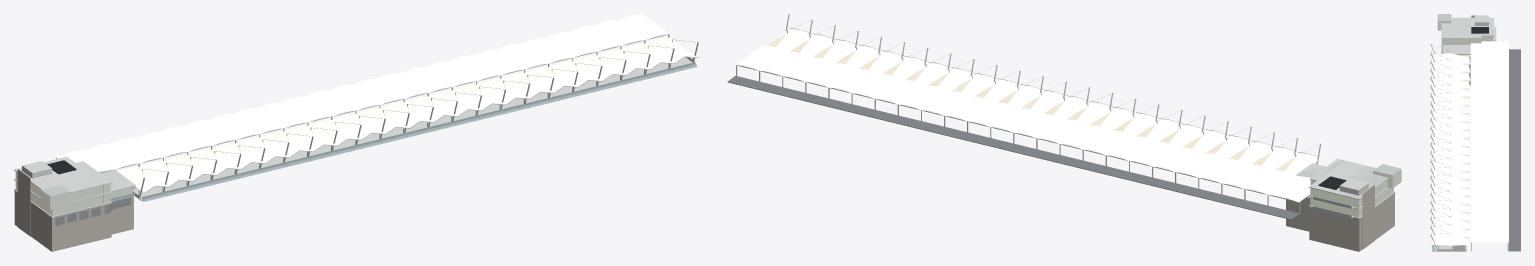
Rendered from spo_pit_upper.glb.
The picture shows the model from 3 angles, left to right: view 1: azimuth 30°, elevation 25°; view 2: azimuth 150°, elevation 25°; view 3: azimuth 270°, elevation 25°; orthographic projection. The views are drawn at different scales.
Visible parts, largest first — view 1: sao-paulo-pit-building; view 2: sao-paulo-pit-building; view 3: sao-paulo-pit-building.
Part boxes in pixels (left/top/right/bottom): sao-paulo-pit-building: left=14, top=14, right=698, bottom=251; sao-paulo-pit-building: left=727, top=14, right=1401, bottom=251; sao-paulo-pit-building: left=1430, top=14, right=1520, bottom=251.
Size of the model in its own units: 324 by 29.2 by 56.41.
